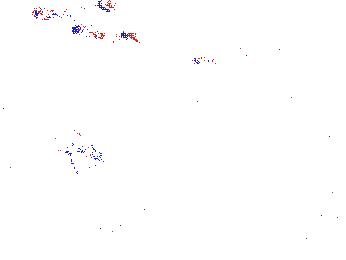X-ray fish: (57, 131, 107, 170), (304, 3, 326, 38)
glassfish: (155, 136, 187, 205), (117, 194, 170, 227)
red belly glassfish: (191, 46, 243, 67)
redtail glassfish: (33, 1, 114, 22), (68, 22, 136, 44), (179, 1, 248, 20)
